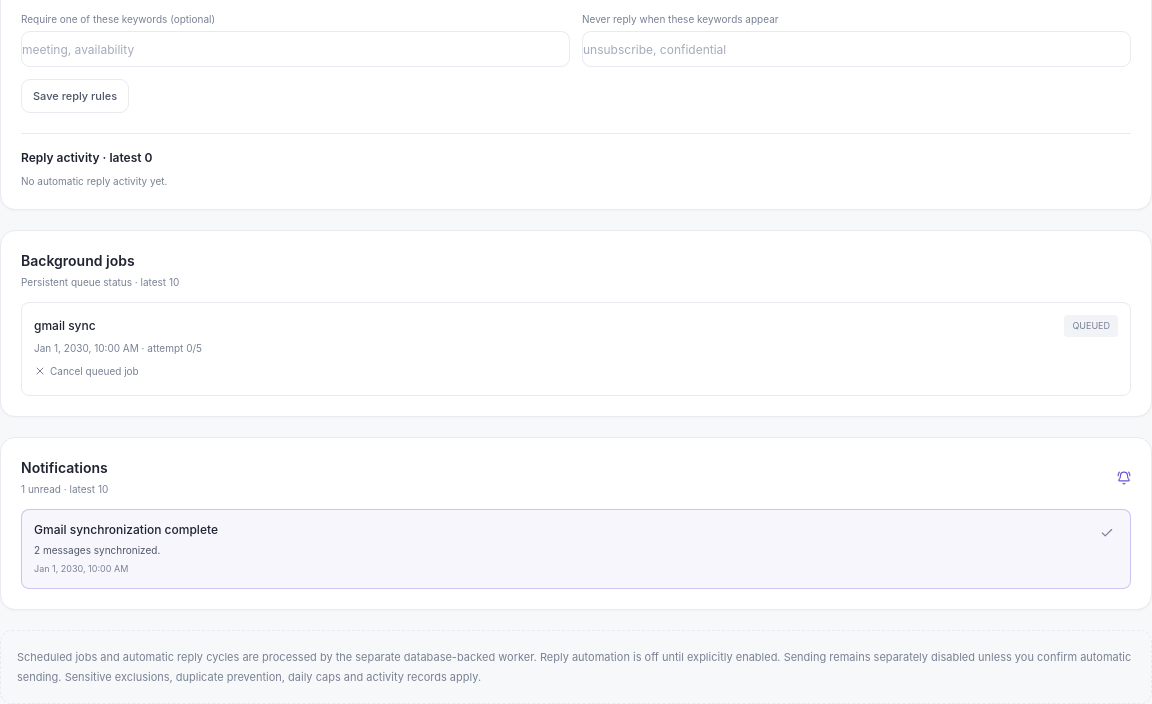
Test case: Automation page › can mark a user notification as read
The image size is (1152, 704).
(page scrolled)
Click the button named "Mark notification read". click: point(1107, 533)
box: [1096, 522, 1118, 544]
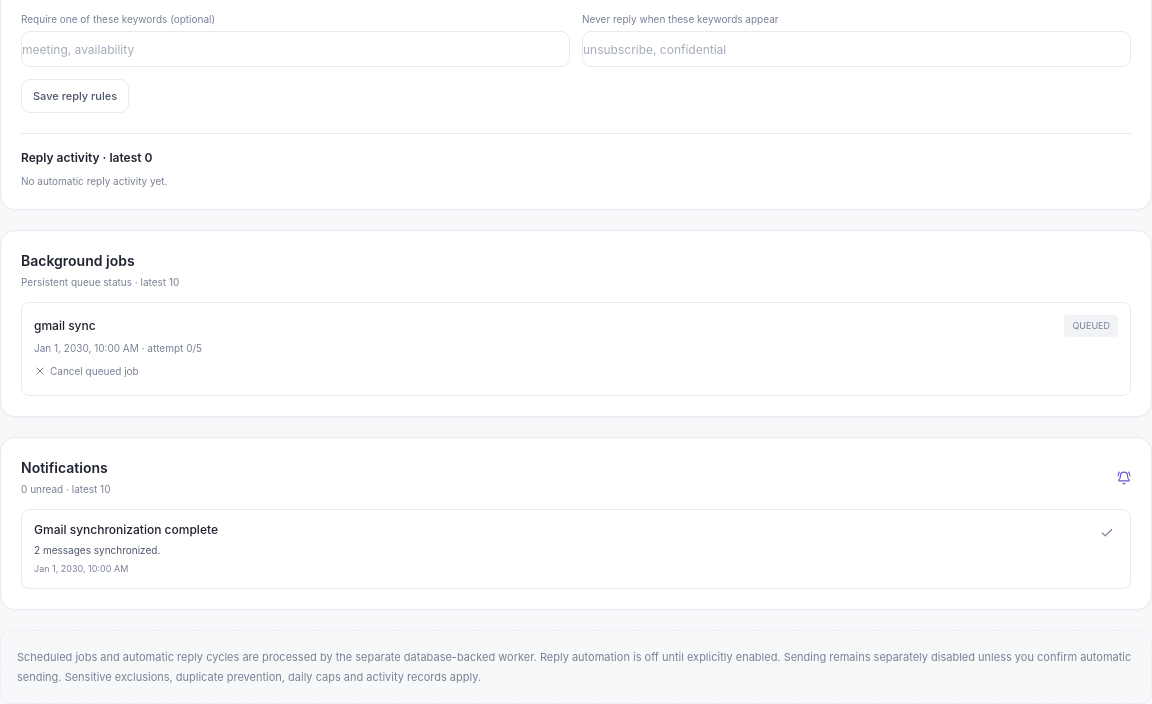
Result: the text "0 unread · latest 10" is shown at [21, 482, 110, 497]
